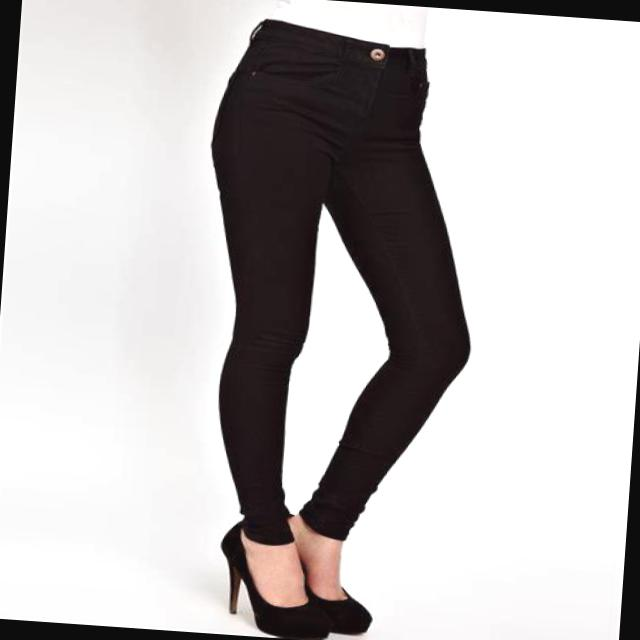pants: (183, 14, 490, 557)
